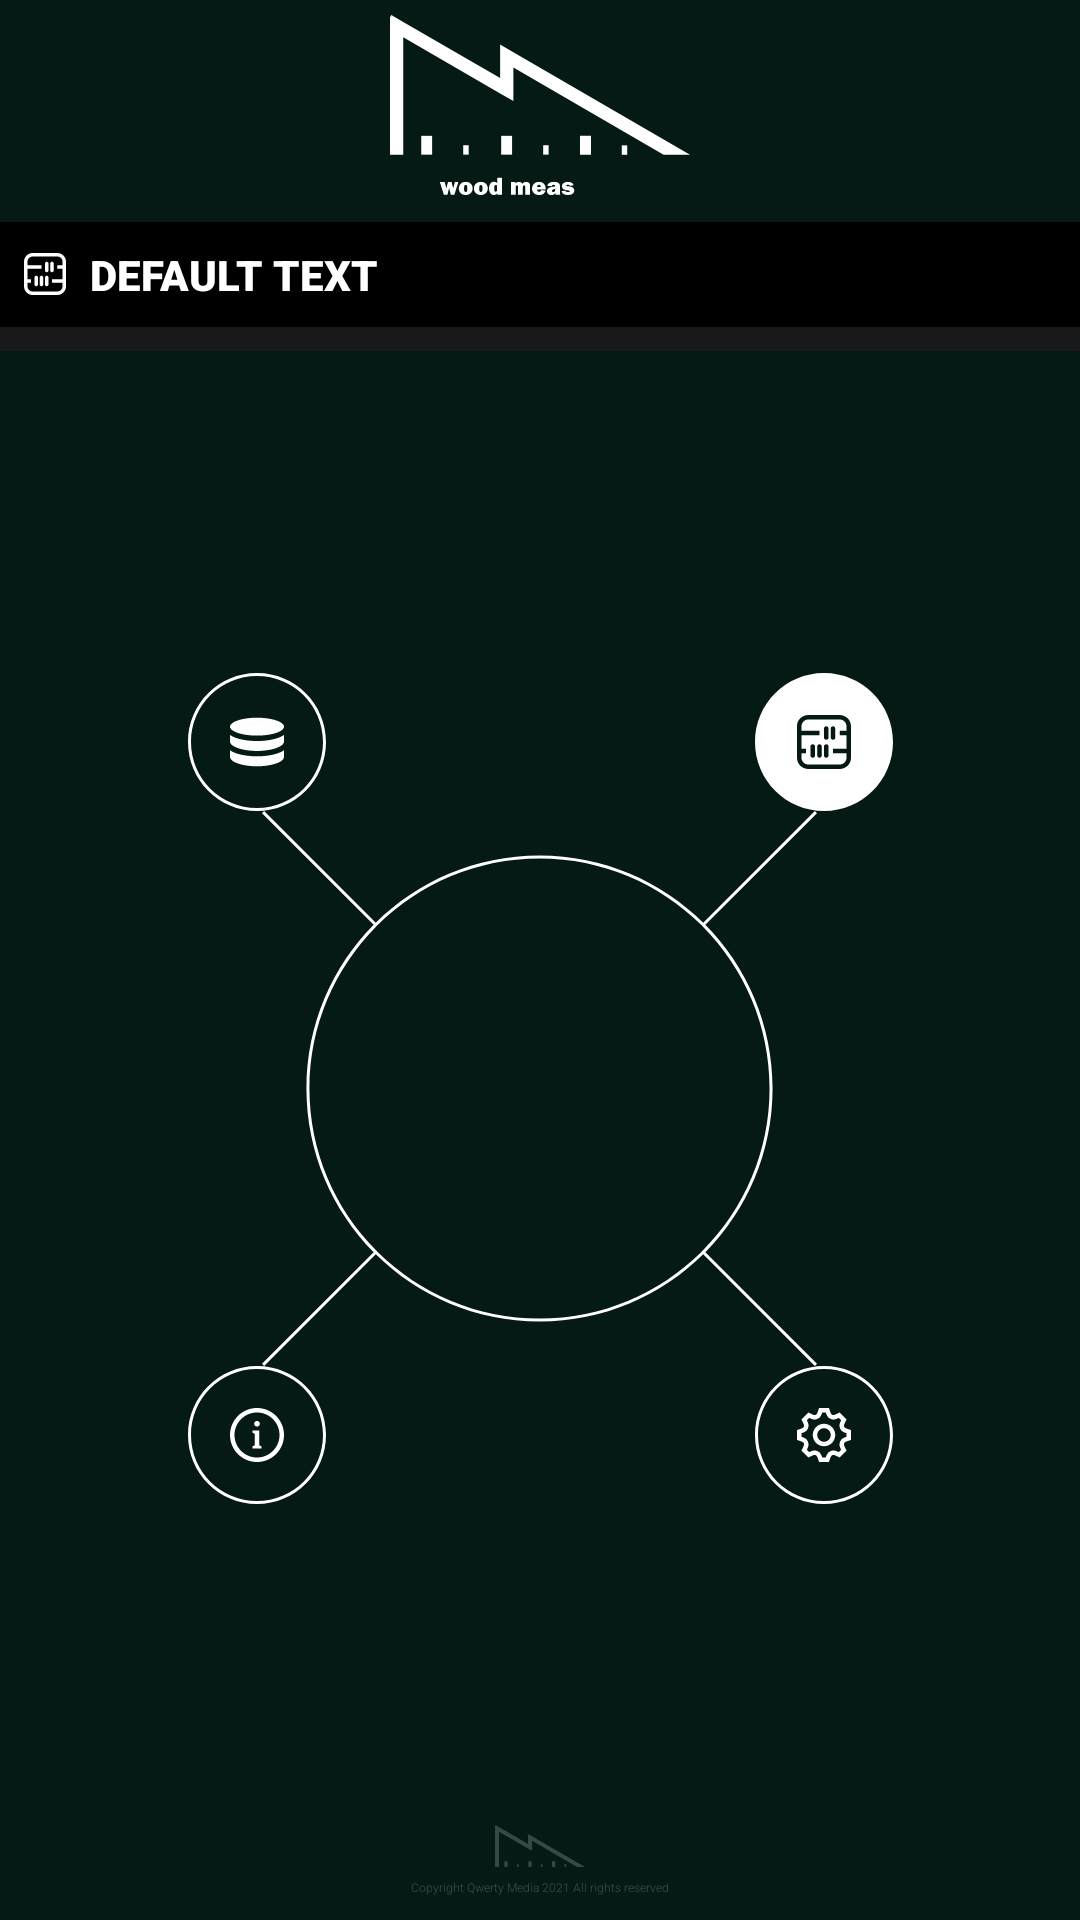

Icon bounding boxes for this 1080px x 1920px phone screenshot, format detection(x1, y1, x2, y2):
item calculator: detection(24, 253, 66, 295), detection(755, 673, 893, 811)
item info: detection(188, 1366, 326, 1504)
item settings: detection(755, 1366, 893, 1504)
item stack: detection(230, 717, 284, 767)
